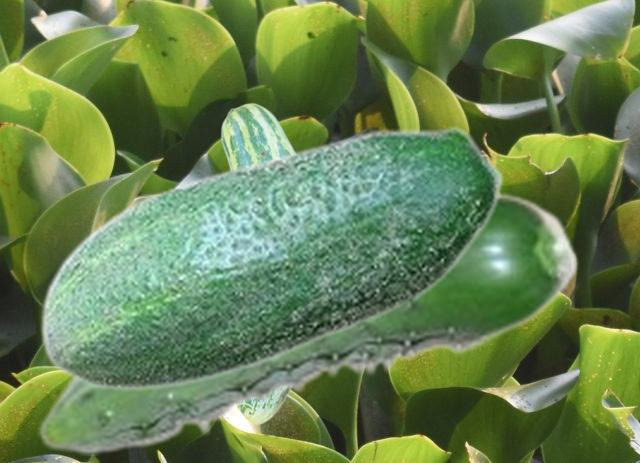cucumber: (37, 192, 579, 454), (39, 125, 504, 390), (220, 102, 294, 424)
